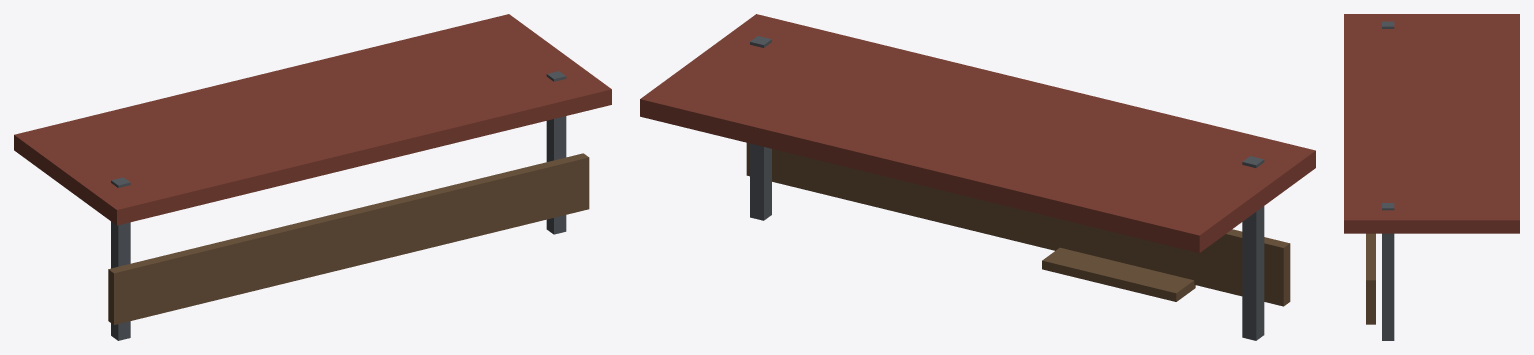
Rendered from rail-canopy.glb.
3 views of the same model, side by side, from view 1: azimuth 30°, elevation 25°; view 2: azimuth 150°, elevation 25°; view 3: azimuth 270°, elevation 25° (orthographic). The views are drawn at different scales.
Visible parts, largest first — view 1: _MeshInstance3D_105, _MeshInstance3D_106, _MeshInstance3D_104, _MeshInstance3D_103; view 2: _MeshInstance3D_105, _MeshInstance3D_106, _MeshInstance3D_107, _MeshInstance3D_103, _MeshInstance3D_104; view 3: _MeshInstance3D_105, _MeshInstance3D_104, _MeshInstance3D_106.
Boxes of the visible parts, <box> form: _MeshInstance3D_105: <box>14,14,611,225</box>; _MeshInstance3D_106: <box>108,153,589,324</box>; _MeshInstance3D_104: <box>546,71,566,234</box>; _MeshInstance3D_103: <box>111,177,130,340</box>; _MeshInstance3D_105: <box>640,14,1315,252</box>; _MeshInstance3D_106: <box>746,143,1290,306</box>; _MeshInstance3D_107: <box>1042,247,1195,301</box>; _MeshInstance3D_103: <box>1242,156,1264,340</box>; _MeshInstance3D_104: <box>750,36,771,220</box>; _MeshInstance3D_105: <box>1344,14,1519,233</box>; _MeshInstance3D_104: <box>1382,203,1394,340</box>; _MeshInstance3D_106: <box>1366,233,1375,324</box>.
Bounding box in the file's own units: 10 × 3 × 3.6.
